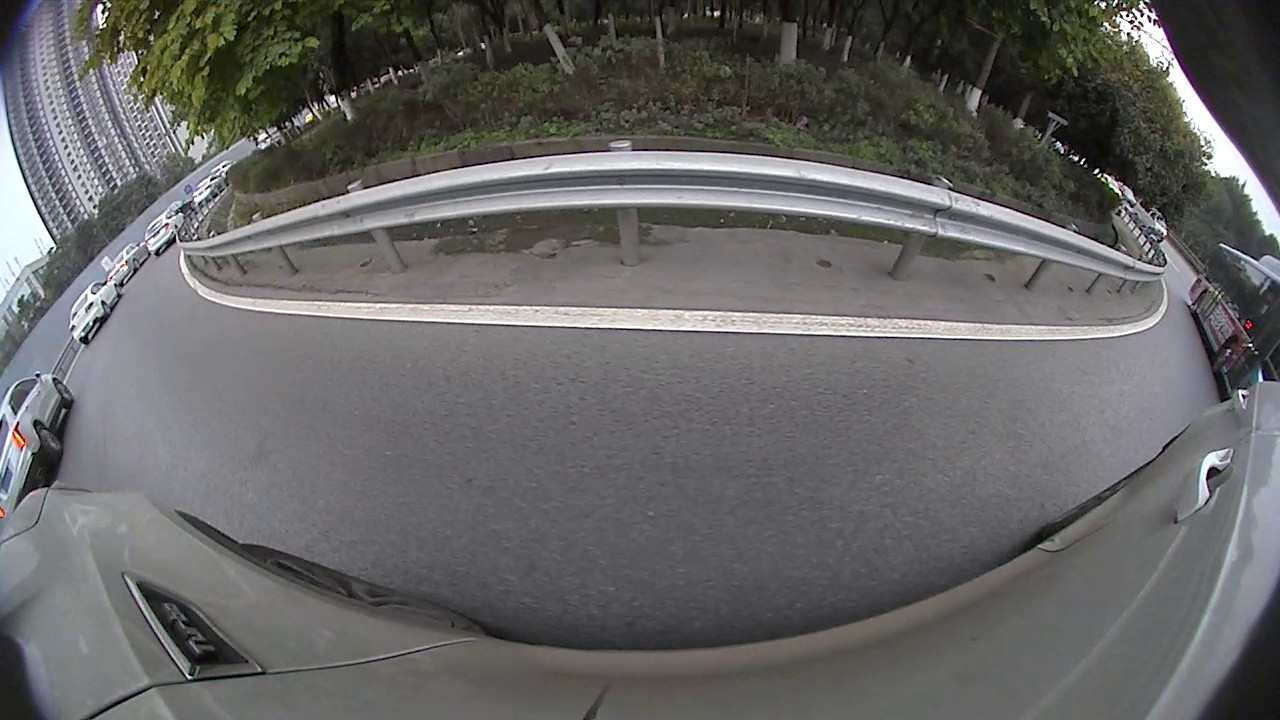bus: (1180, 243, 1279, 411)
car: (1, 370, 82, 514), (64, 278, 128, 352), (143, 206, 188, 261), (107, 238, 151, 289), (1131, 193, 1171, 247)
front: (1210, 337, 1241, 373), (50, 378, 75, 406)
rear: (31, 423, 66, 459), (1189, 289, 1207, 315), (99, 301, 113, 316)
